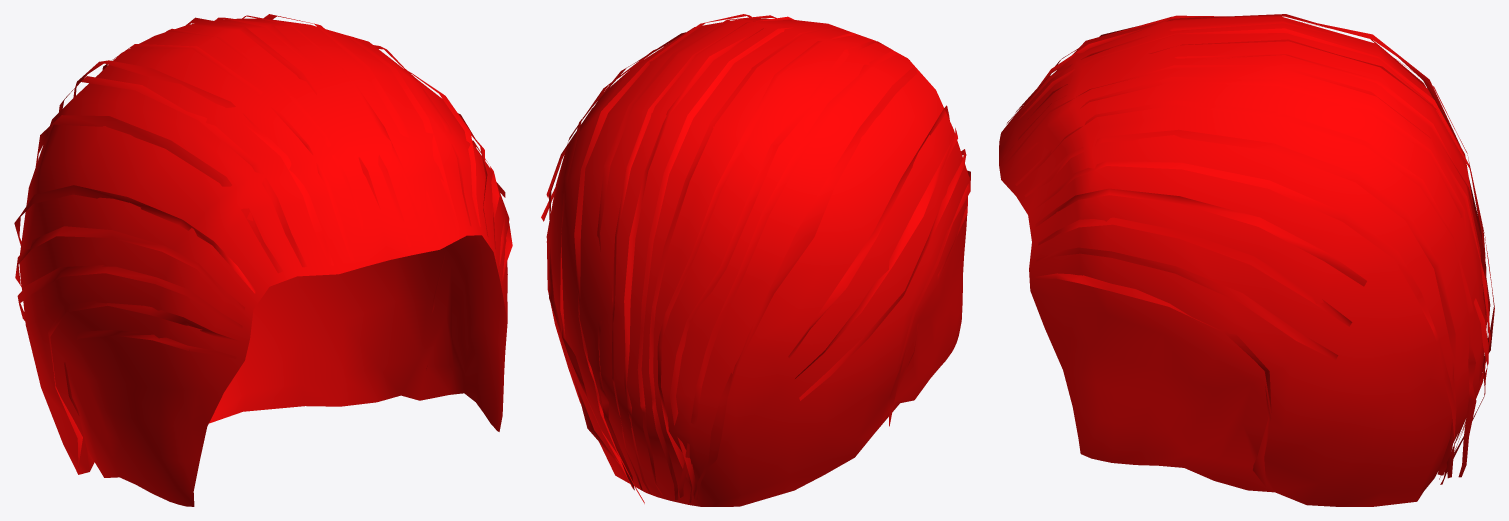
File: short04_F.glb
3 renders of one model, left to right at view 1: azimuth 30°, elevation 25°; view 2: azimuth 150°, elevation 25°; view 3: azimuth 270°, elevation 25°, orthographic. The views are drawn at different scales.
Bounding box in the file's own units: 0.1704 × 0.1841 × 0.1881.
Materials: 1 (1 with a texture image).
